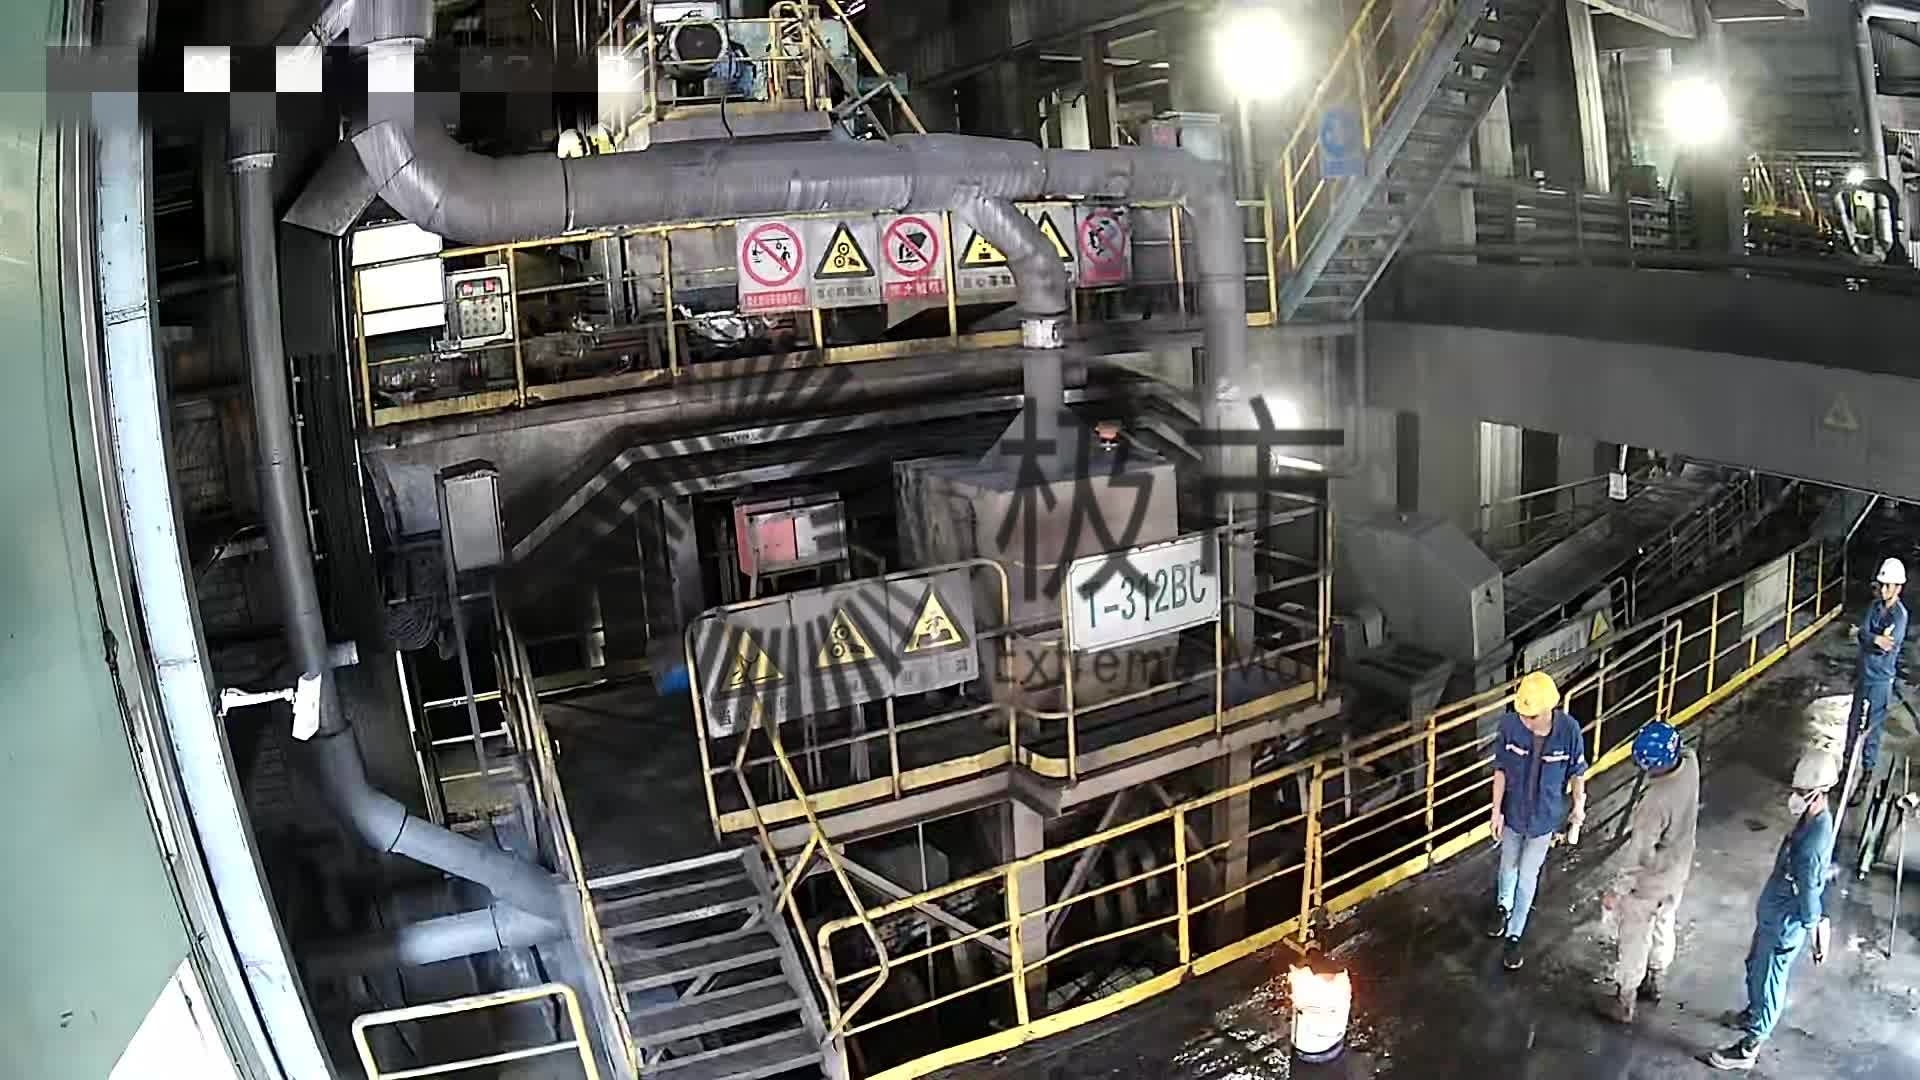fire: (1286, 957, 1358, 1026)
